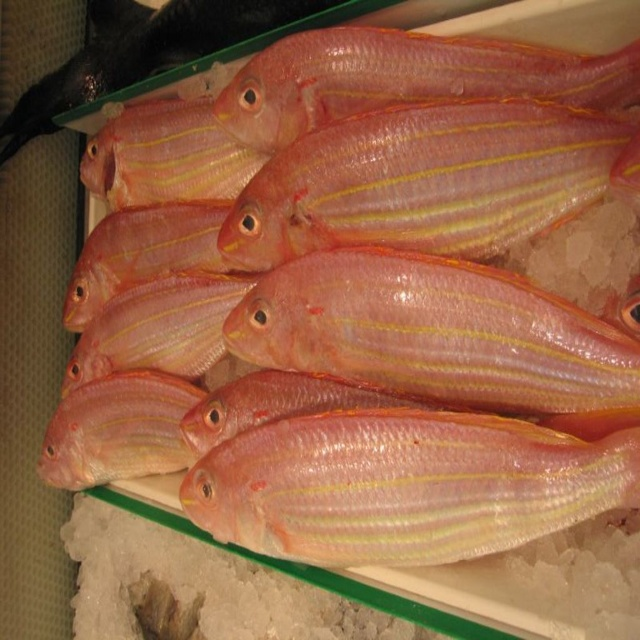Fish: (32, 26, 640, 569)
